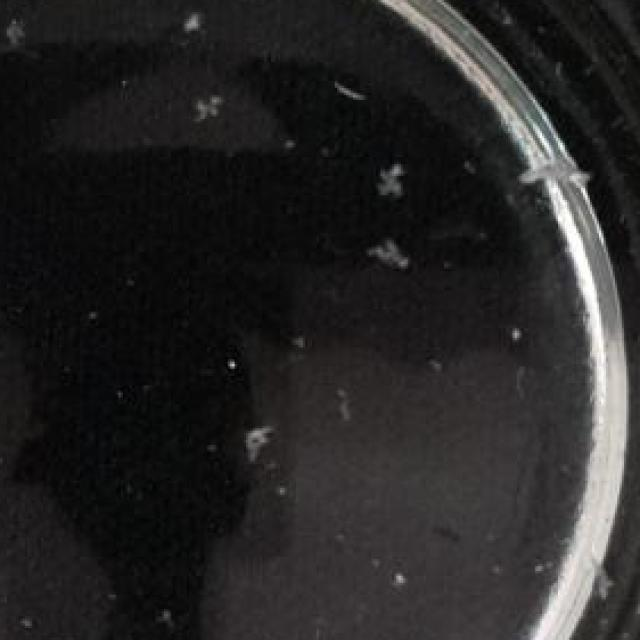Microplastic: (499, 143, 601, 205), (173, 62, 242, 152), (537, 526, 622, 597), (362, 214, 419, 293), (237, 412, 285, 476), (362, 143, 410, 200), (166, 0, 220, 40), (321, 66, 367, 110), (0, 2, 36, 56)
